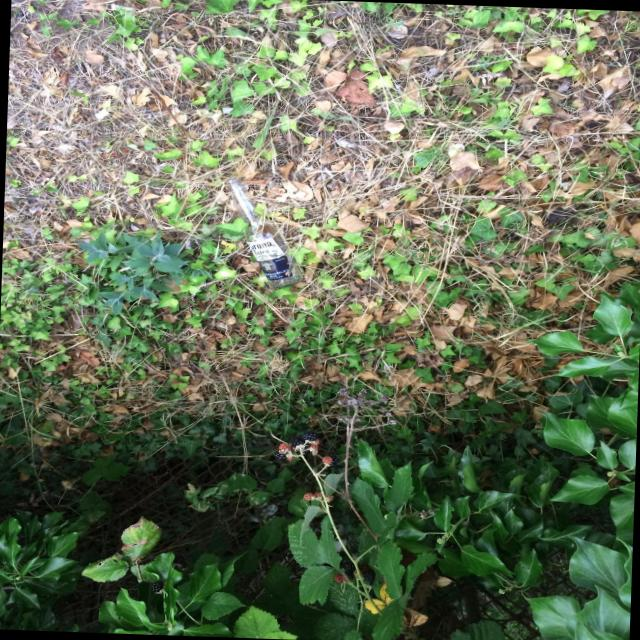less trash: (230, 178, 302, 288)
